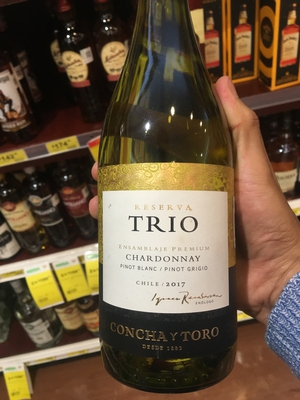trio chardonnay: (83, 20, 251, 380)
